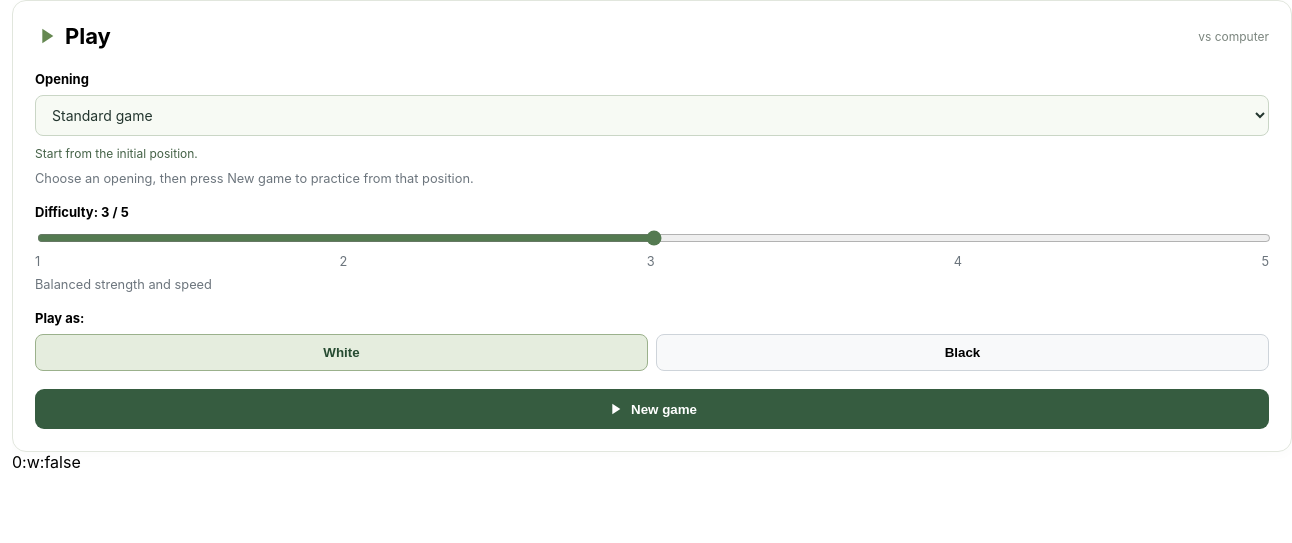
Test: opening selection applies on New game, resets history, and schedules the correct side
This screenshot has width=1292, height=543.
Select "Italian Game" in the dropdown labelled "Opening" at (652, 116), box [35,95,1269,136]
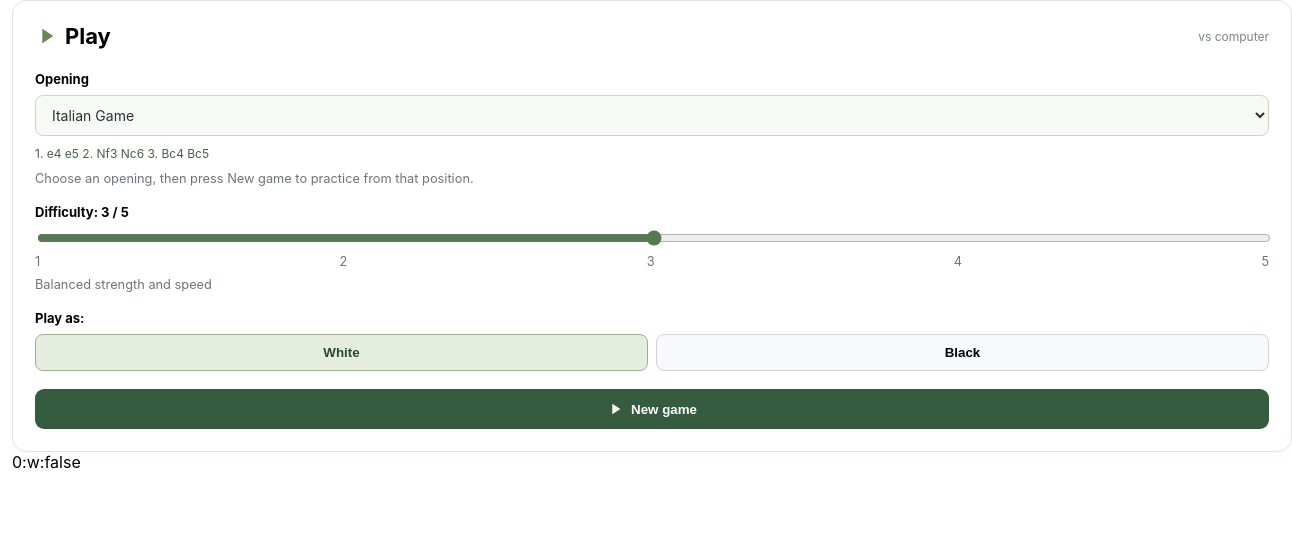
Expected: the text "0:w:false" is shown, [12,452,81,472]
Click the button "New game" at (652, 409), box [35,389,1269,429]
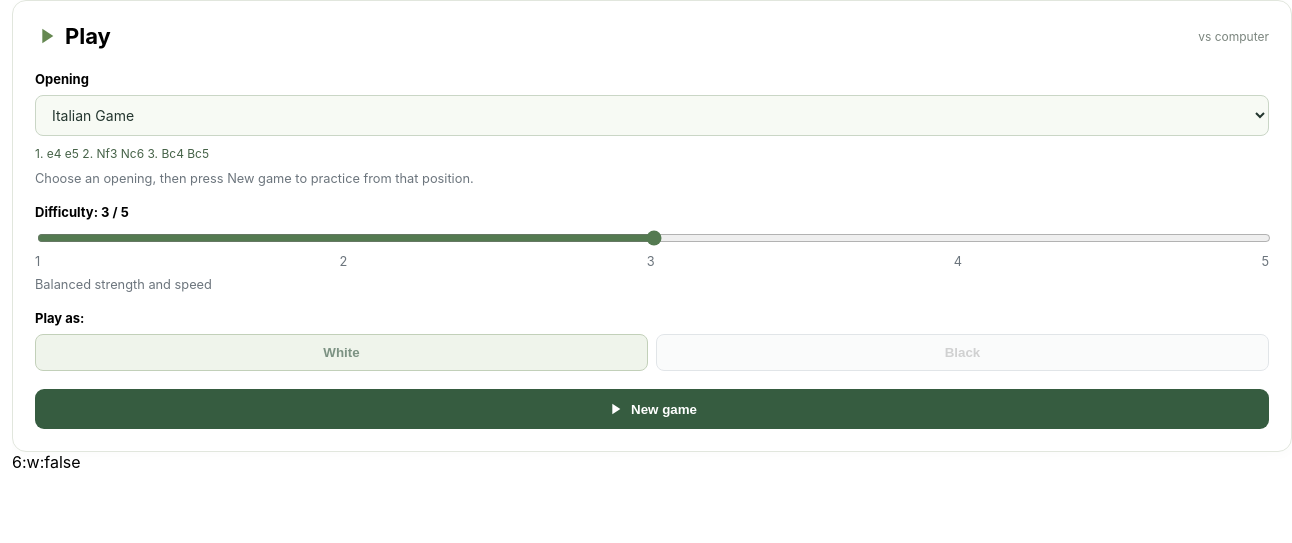
Expected: the text "6:w:false" is shown, [12,452,80,472]
Select "Standard game" in the dropdown labelled "Opening" at (652, 116), box [35,95,1269,136]
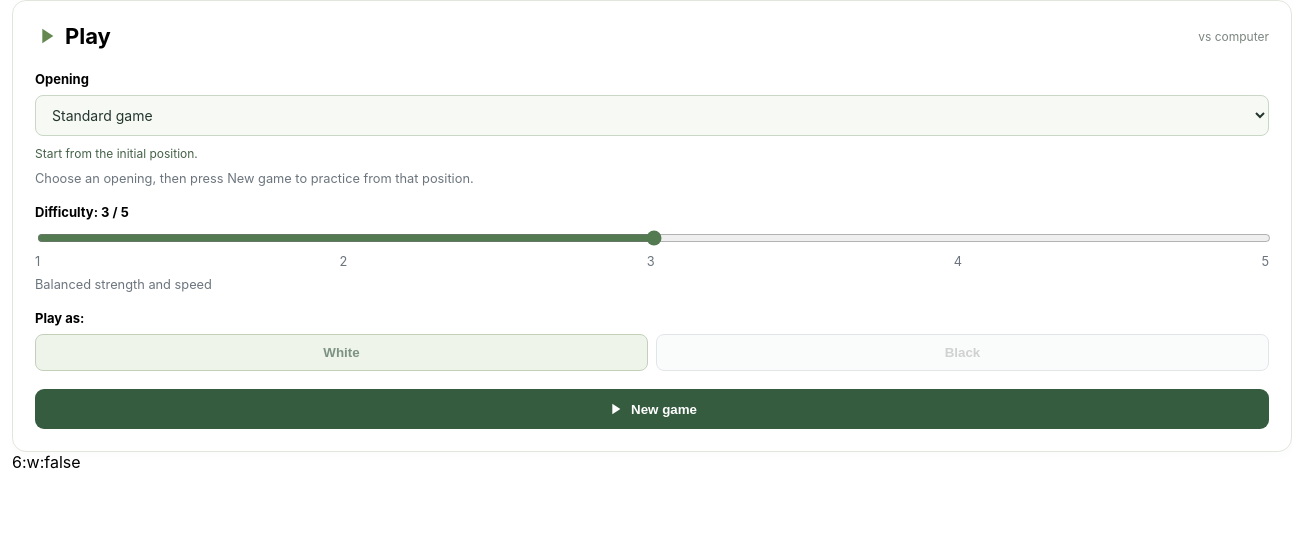
Click the button "New game" at (652, 409), box [35,389,1269,429]
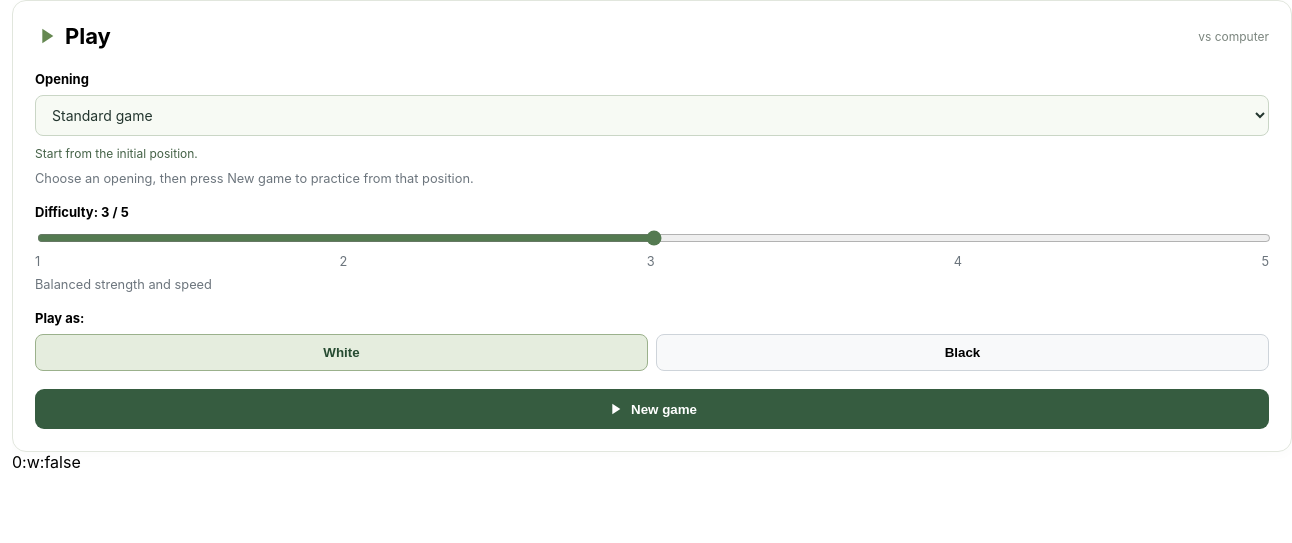
Expected: the text "0:w:false" is shown, [12,452,81,472]
Select "Queen's Gambit" in the dropdown labelled "Opening" at (652, 116), box [35,95,1269,136]
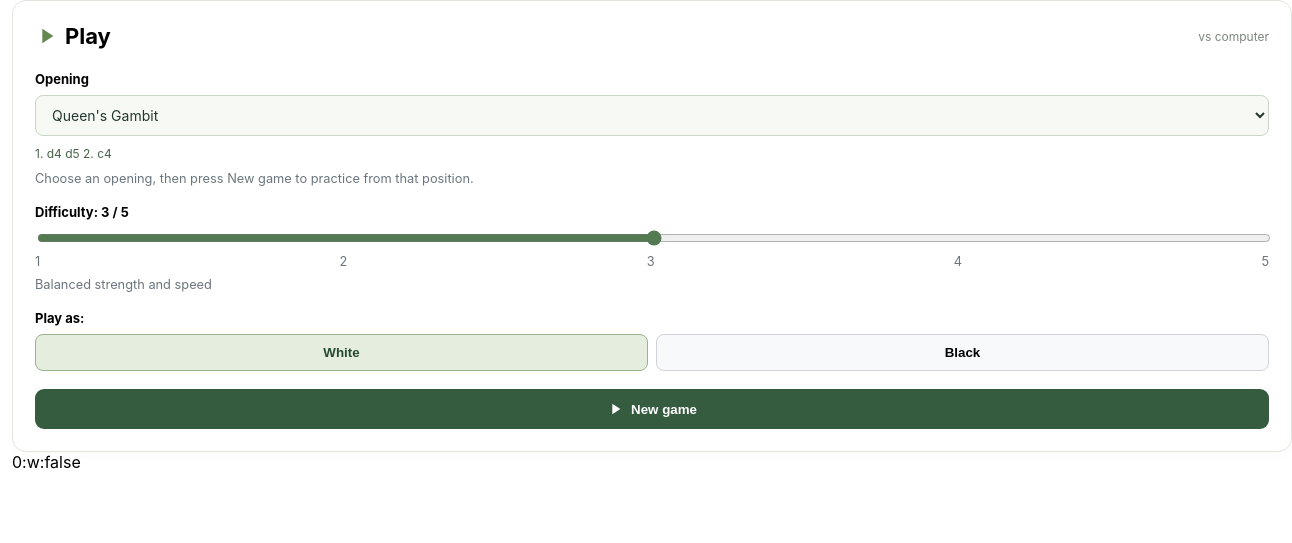
Click the button "New game" at (652, 409), box [35,389,1269,429]
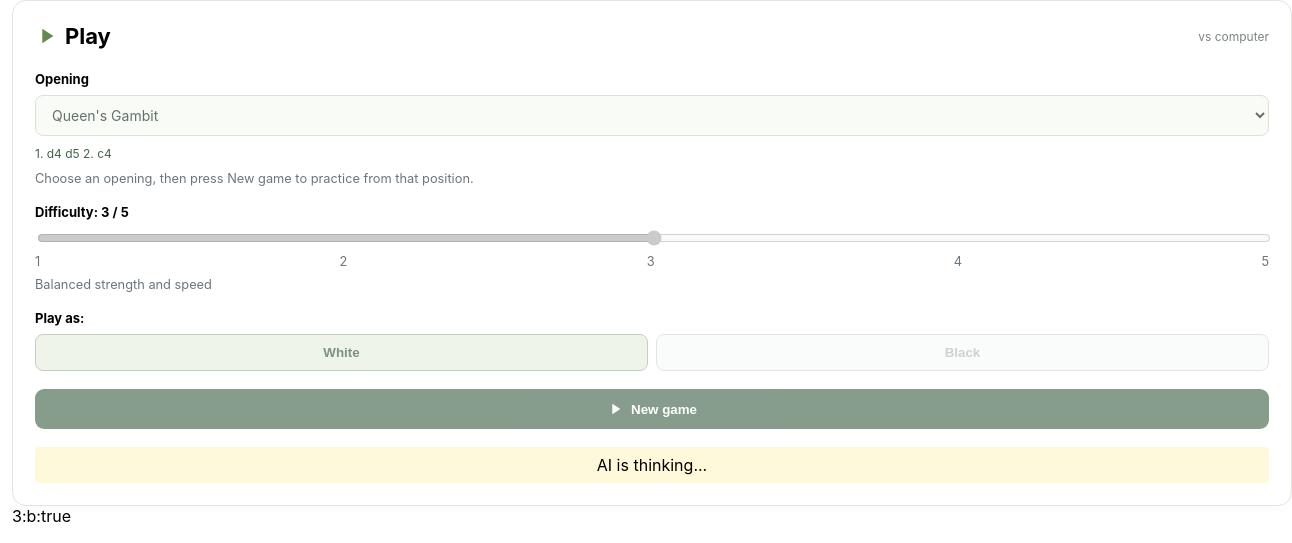
Expected: the text "3:b:true" is shown, [12,506,71,526]
